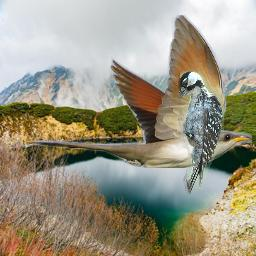Cuckoo: (32, 15, 252, 168)
Woodpecker: (178, 71, 224, 194)
